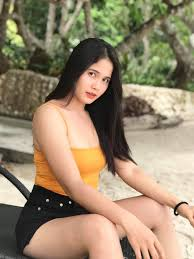GIRL: (70, 47, 116, 108)
